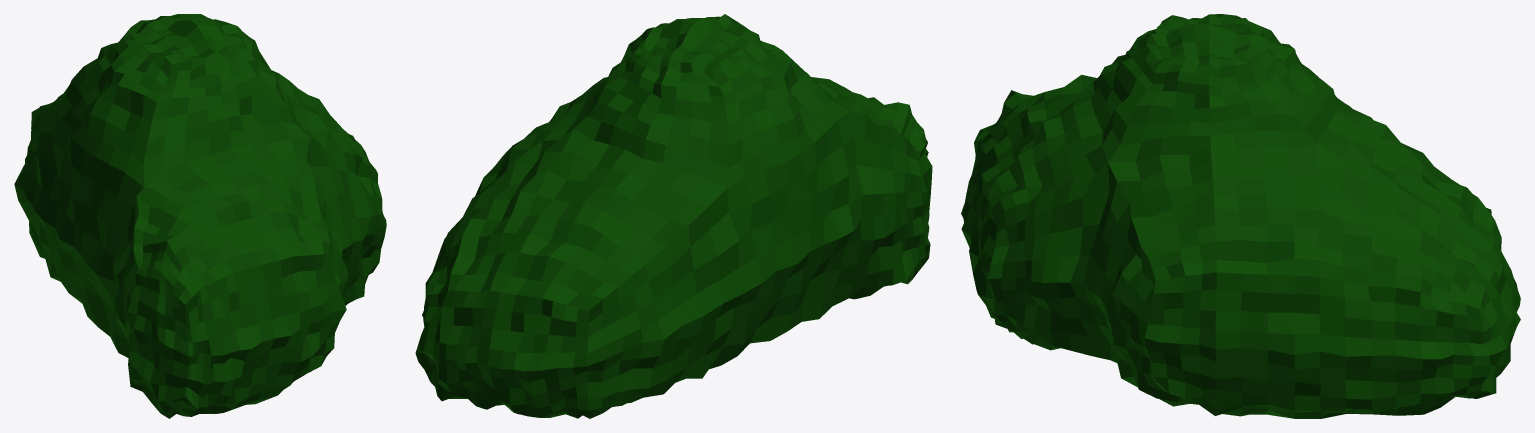
Rendered from buisson meilleur que celui de yaya et en moins de temps .fbx.
The picture shows the model from 3 angles, left to right: view 1: azimuth 30°, elevation 25°; view 2: azimuth 150°, elevation 25°; view 3: azimuth 270°, elevation 25°; orthographic projection. The views are drawn at different scales.
Visible parts, largest first — view 1: Cube.001; view 2: Cube.001; view 3: Cube.001.
Part boxes in pixels (x1=…): Cube.001: x1=14, y1=14, x2=386, y2=418; Cube.001: x1=415, y1=14, x2=932, y2=418; Cube.001: x1=961, y1=14, x2=1520, y2=418.
Bounding box in the file's own units: 374 × 361 × 534.
